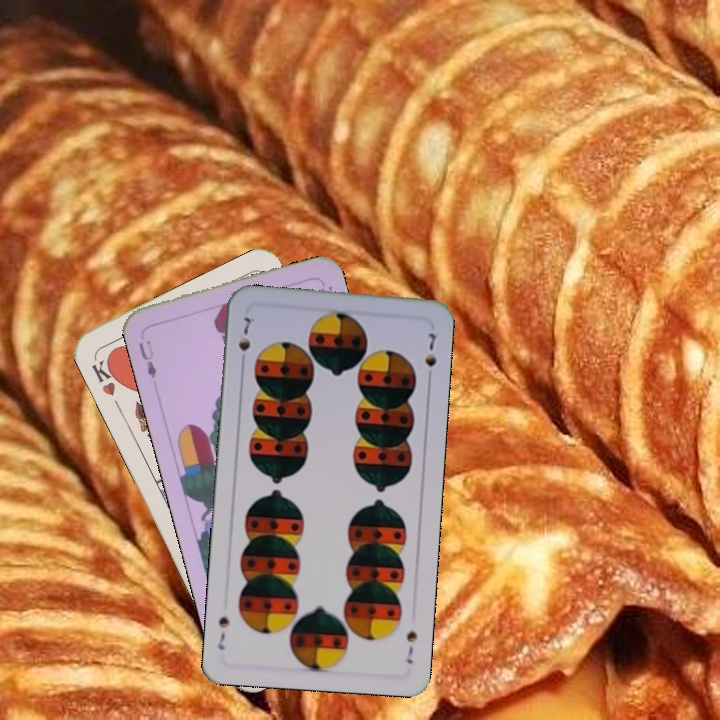EU: (134, 336, 159, 381)
HK: (87, 353, 124, 399)
S7: (234, 312, 254, 369), (402, 626, 419, 666)
